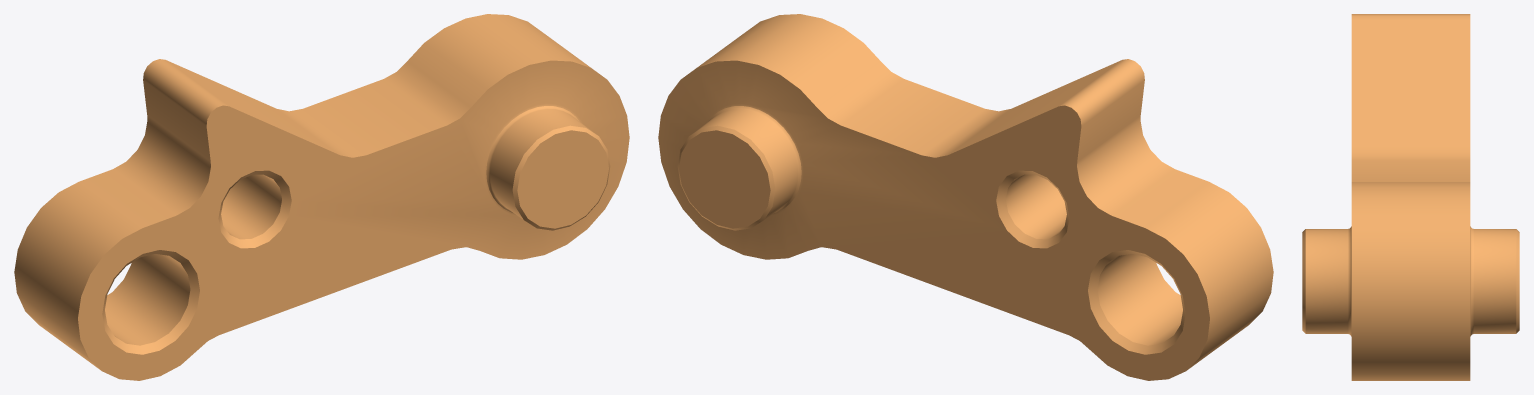
The model's file is right_knuckle.dae.
3 views of the same model, side by side, from view 1: azimuth 30°, elevation 25°; view 2: azimuth 150°, elevation 25°; view 3: azimuth 270°, elevation 25° (orthographic). The views are drawn at different scales.
Parts seen in each view (by area): view 1: right_knuckle; view 2: right_knuckle; view 3: right_knuckle.
Boxes of the visible parts, x1,y1,x2,y2 form: right_knuckle: (14,14,629,380); right_knuckle: (658,14,1273,380); right_knuckle: (1302,14,1519,380).
Bounding box in the file's own units: 0.0451 × 0.0165 × 0.02.
